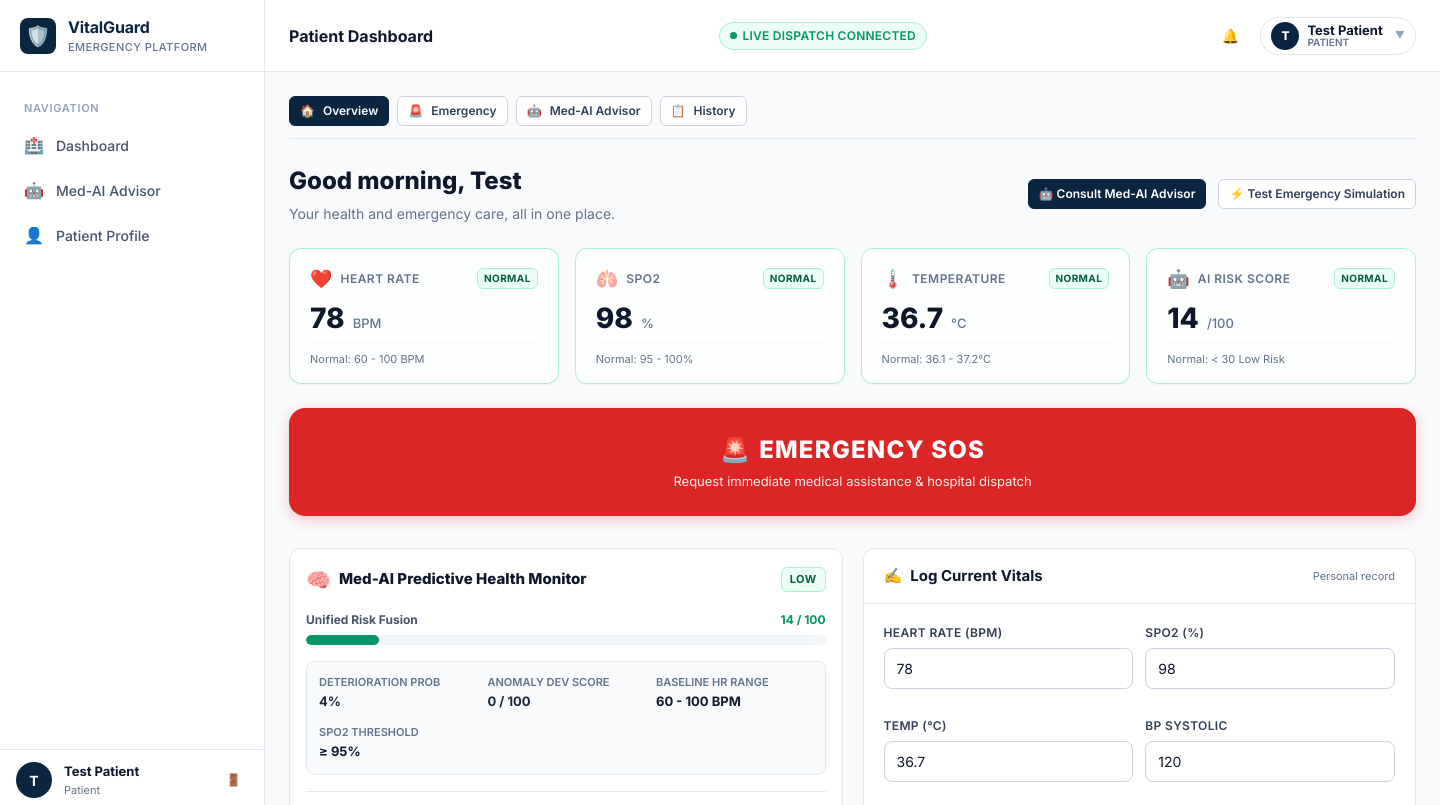
Test: queue response regression › renders Med-AI Predictive Health Monitor and opens Clinical Med-AI Chat Advisor
This screenshot has width=1440, height=805.
Expected: the heading "Med-AI Predictive Health Monitor" is shown, [339,568,587,591]
Expected: the text "Unified Risk Fusion" is shown, [306,610,418,628]
// Switch to Med-AI Advisor tab
Click the button "🤖 Med-AI Advisor" at (584, 111), box [516,96,652,126]
(page scrolled)
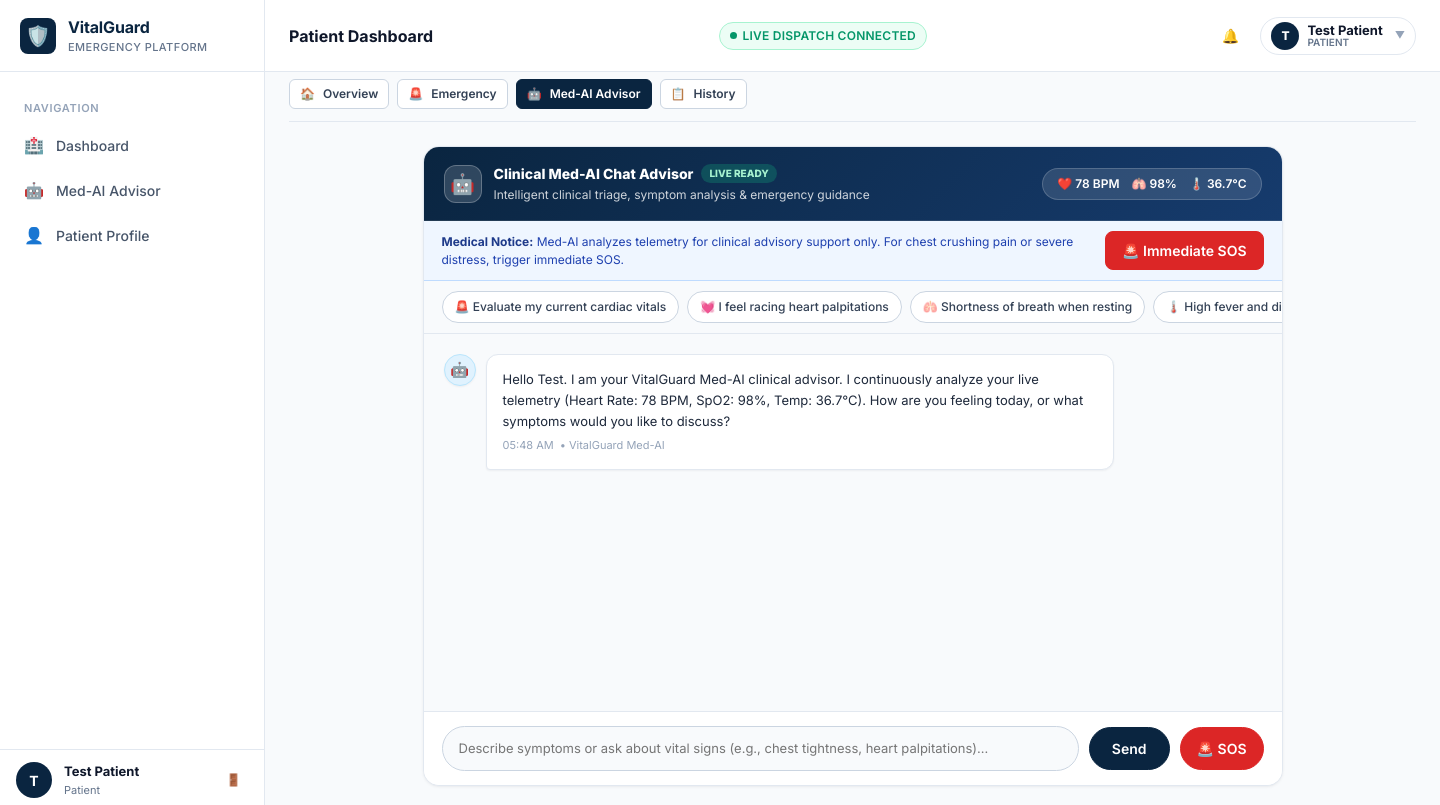
Expected: the text "Clinical Med-AI Chat Advisor" is shown, [494,163,694,184]
Expected: the text "Intelligent clinical triage, symptom analysis & emergency guidance" is shown, [494,186,870,204]
Expected: the button "💓 I feel racing heart palpitations" is shown
// Click quick prompt chip
Click the button "💓 I feel racing heart palpitations" at (795, 307), box [687,291,902,323]
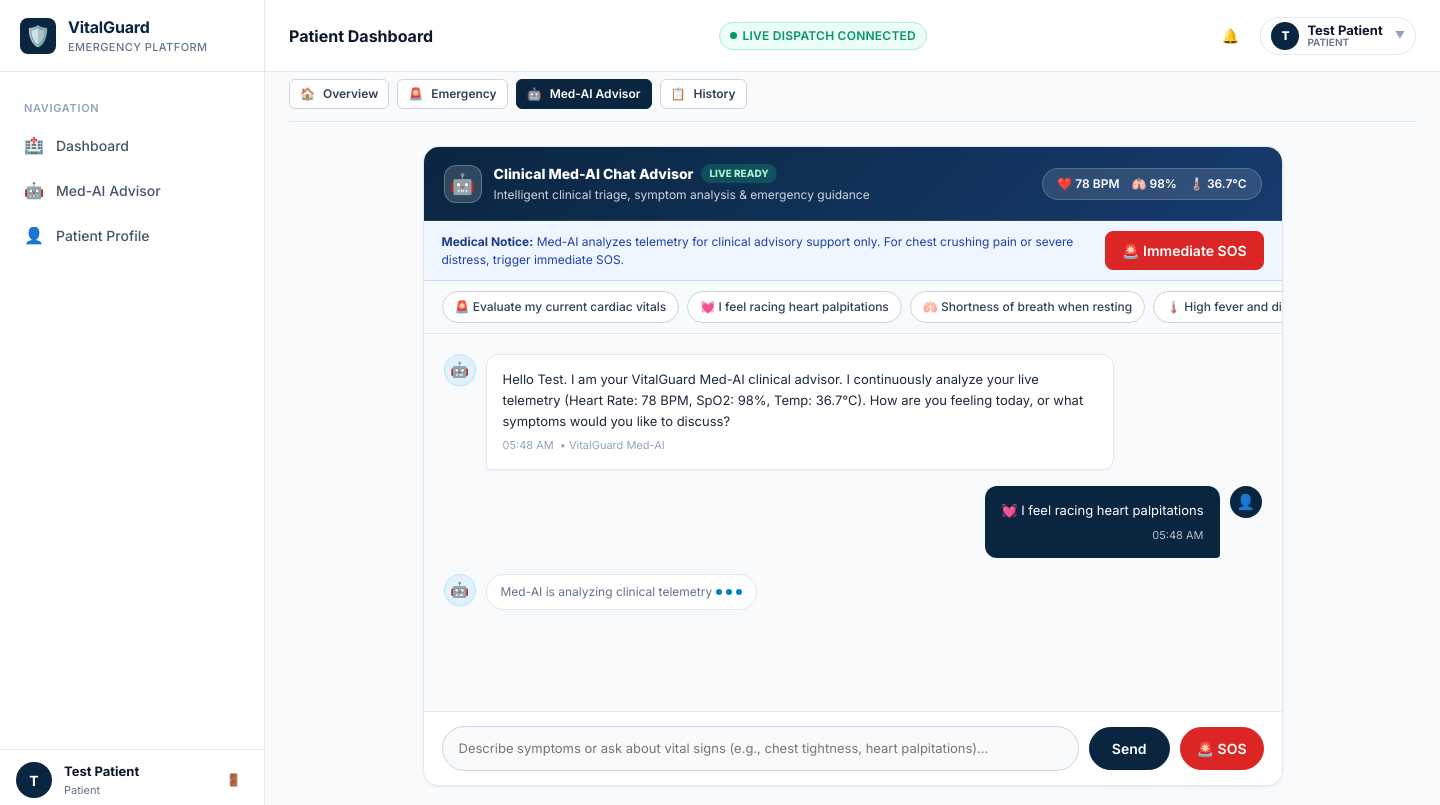
Expected: the text "💓 I feel racing heart palpitations" is shown, [1001,500,1204,521]
